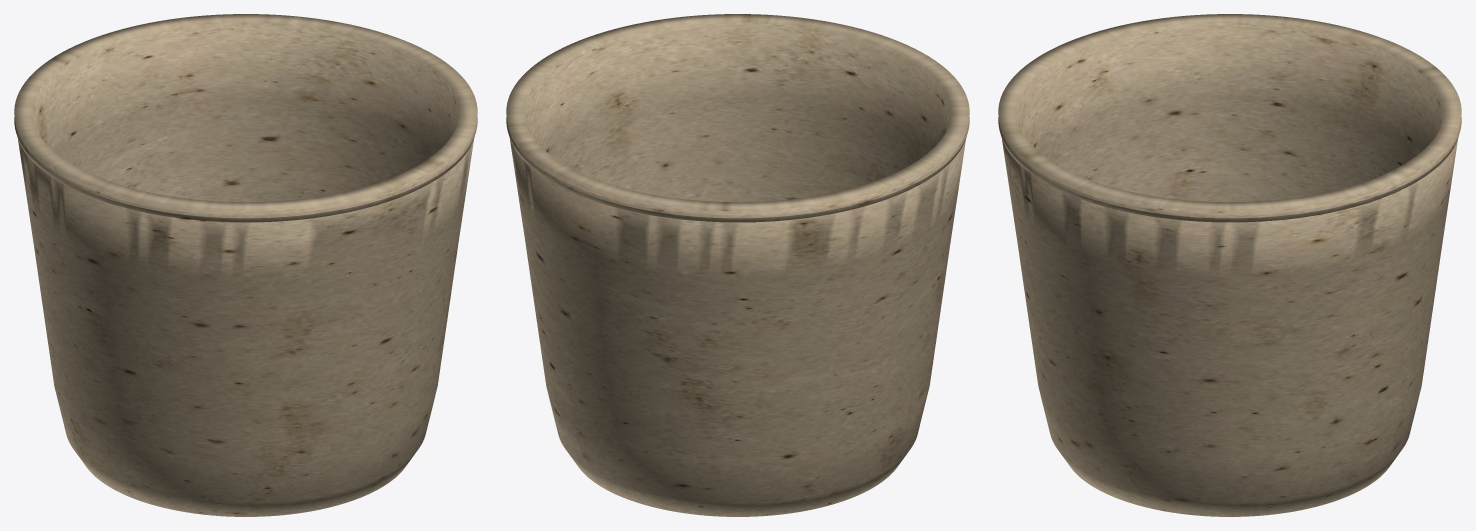
The picture shows the model from 3 angles, left to right: view 1: azimuth 30°, elevation 25°; view 2: azimuth 150°, elevation 25°; view 3: azimuth 270°, elevation 25°; orthographic projection.
Visible parts, largest first — view 1: body; view 2: body; view 3: body.
Boxes of the visible parts, bbox=[...] form: body: bbox=[14, 14, 477, 516]; body: bbox=[506, 14, 969, 516]; body: bbox=[998, 14, 1461, 516].
Size of the model in its own units: 0.059 by 0.047 by 0.059.
Materials: 1 (1 with a texture image).
